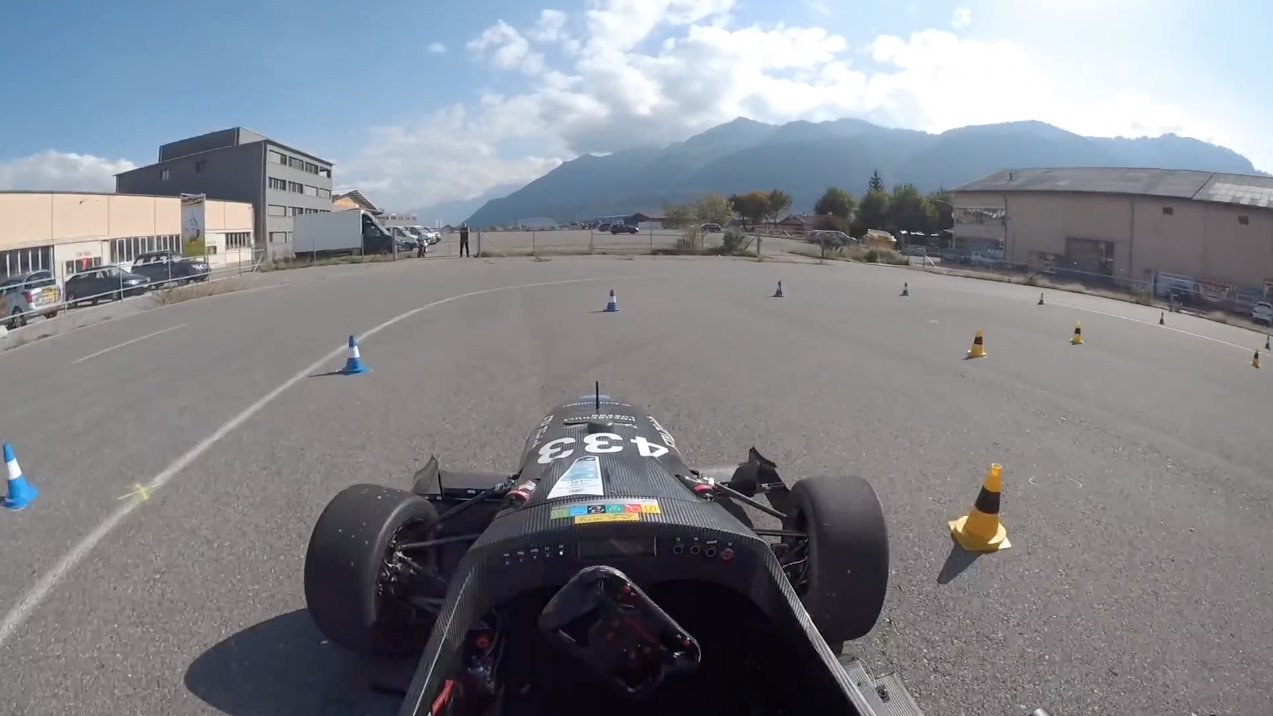lcone: (1, 442, 45, 512), (336, 329, 377, 382), (600, 285, 624, 317)
rcone: (939, 458, 1021, 558), (963, 326, 992, 363)
